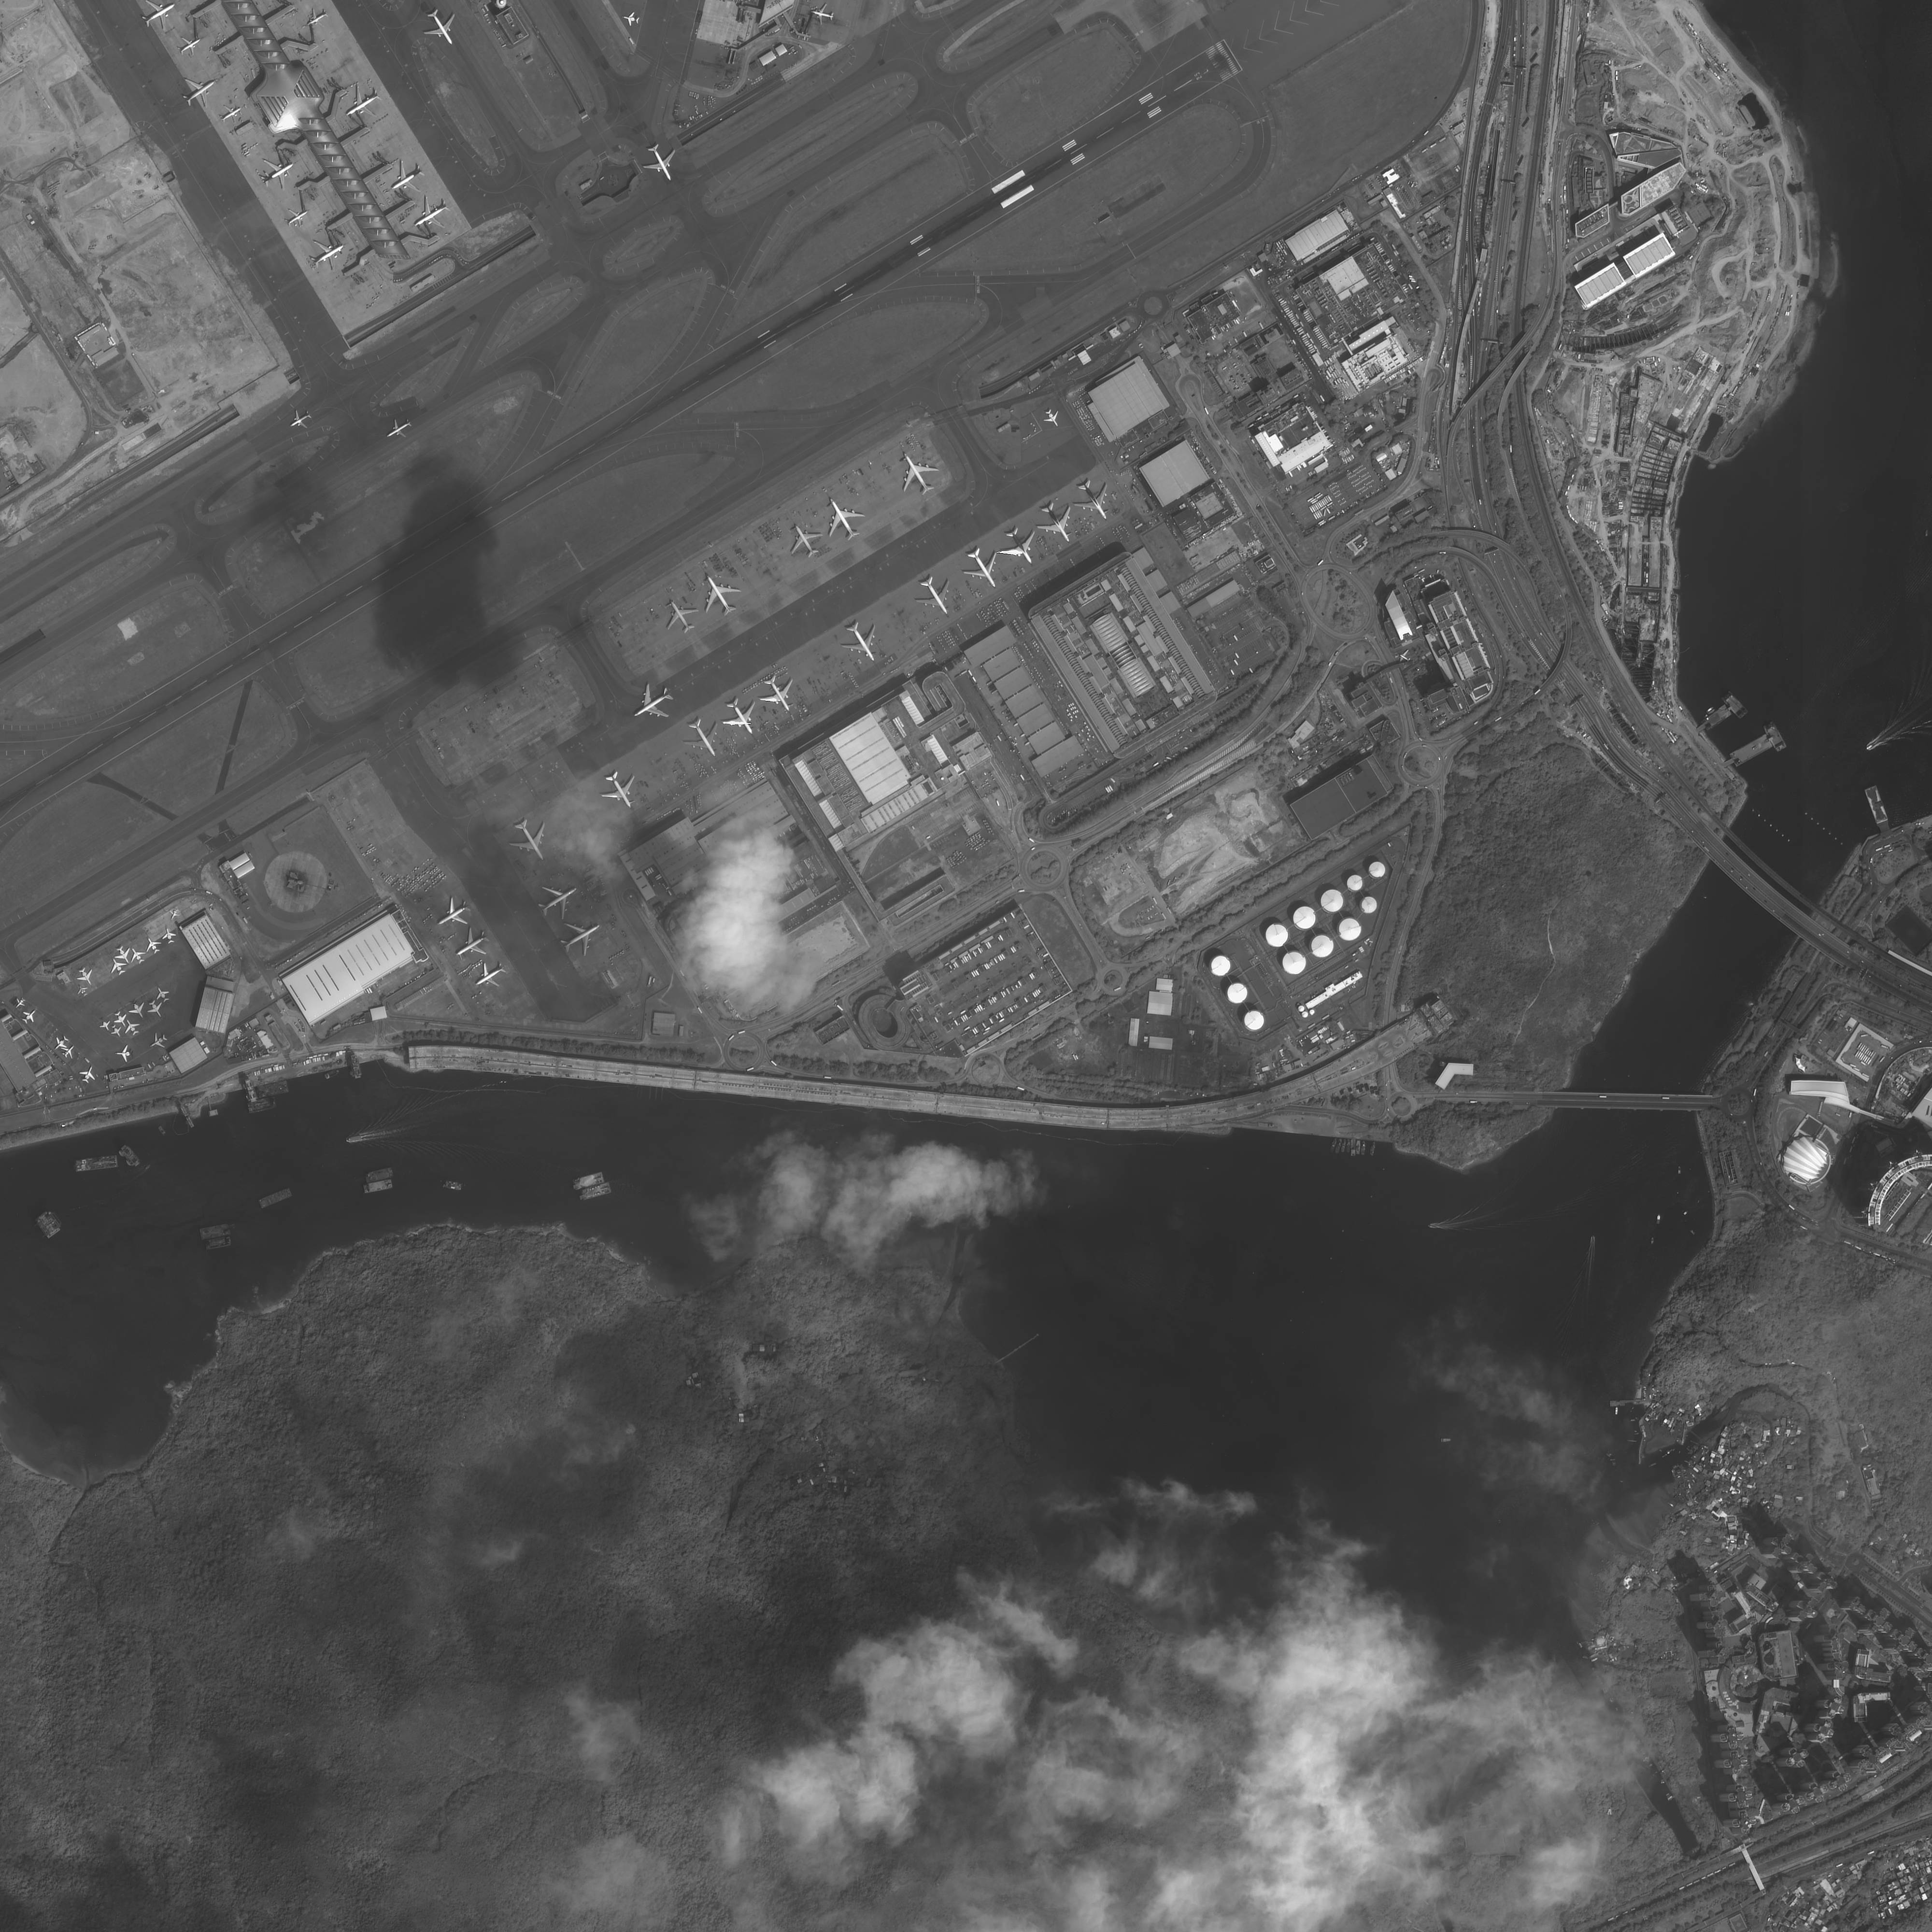bridge: (1700, 835, 1819, 941), (1721, 826, 1826, 918), (1530, 1090, 1711, 1111)
harbor: (1725, 732, 1775, 770), (1865, 786, 1891, 833), (1697, 704, 1734, 734), (1610, 1399, 1635, 1407)
plane: (812, 488, 874, 548), (832, 610, 890, 674), (888, 442, 947, 506), (690, 564, 748, 626), (502, 810, 561, 870), (625, 674, 683, 732), (1067, 471, 1123, 531), (908, 566, 964, 626), (676, 709, 732, 766), (1030, 495, 1086, 552), (991, 520, 1049, 575), (552, 909, 610, 964), (403, 188, 460, 242), (715, 690, 770, 747), (955, 540, 1008, 598), (593, 763, 648, 817), (533, 874, 587, 927), (336, 78, 389, 131), (416, 4, 469, 55), (754, 669, 805, 722), (380, 154, 432, 205), (637, 136, 685, 189), (303, 228, 352, 278), (780, 517, 830, 566), (655, 593, 706, 640), (175, 65, 223, 115), (428, 890, 478, 938), (255, 150, 303, 198), (448, 922, 497, 968), (133, 0, 182, 35), (469, 957, 511, 996), (281, 200, 313, 234), (382, 414, 416, 446), (173, 30, 205, 62), (303, 2, 333, 34), (216, 99, 248, 129), (287, 405, 317, 435), (145, 1028, 172, 1054), (1040, 403, 1065, 432), (106, 954, 131, 980), (74, 964, 99, 991), (111, 943, 136, 970), (140, 932, 165, 959), (810, 4, 837, 27), (18, 1005, 44, 1028), (127, 998, 150, 1023), (120, 1016, 143, 1040), (76, 1063, 101, 1086), (126, 945, 149, 970), (57, 1040, 80, 1063), (145, 998, 166, 1023), (110, 1008, 131, 1031), (50, 1031, 71, 1054), (152, 984, 172, 1007), (621, 9, 642, 27), (106, 1023, 124, 1040), (113, 1046, 131, 1063), (161, 927, 177, 947), (74, 984, 92, 1000), (12, 994, 28, 1012), (99, 1017, 113, 1035), (166, 906, 180, 922)
roundabout: (1141, 295, 1166, 317), (1102, 970, 1125, 991), (1391, 1097, 1414, 1116)
ship: (257, 1187, 294, 1210), (1720, 692, 1750, 720), (73, 1155, 119, 1173), (117, 1143, 143, 1171), (1764, 722, 1787, 754), (198, 1223, 235, 1240), (571, 1171, 605, 1191), (579, 1182, 612, 1201), (363, 1178, 393, 1196), (364, 1168, 396, 1184), (203, 1235, 234, 1251), (442, 1180, 464, 1192), (345, 1132, 363, 1145), (1350, 1139, 1357, 1157), (1336, 1138, 1343, 1154), (1369, 1141, 1376, 1157), (1330, 1139, 1338, 1154), (1341, 1139, 1348, 1154), (157, 1125, 166, 1136), (1440, 1437, 1453, 1444), (1346, 1139, 1352, 1155), (1361, 1139, 1366, 1155), (1355, 1141, 1361, 1155), (1865, 745, 1874, 752), (1656, 1215, 1661, 1226), (1677, 1166, 1683, 1175), (1651, 1237, 1654, 1246)
storage tank: (1311, 934, 1334, 959), (1242, 1008, 1265, 1031), (1265, 925, 1288, 948), (1338, 918, 1361, 941), (1292, 908, 1316, 929), (1281, 954, 1306, 975), (1210, 954, 1231, 977), (1226, 982, 1247, 1005), (1322, 890, 1343, 913), (1368, 862, 1385, 879), (1346, 874, 1362, 893), (1361, 897, 1376, 915), (1300, 1012, 1309, 1019), (1299, 1005, 1304, 1012), (1309, 1008, 1315, 1016)
